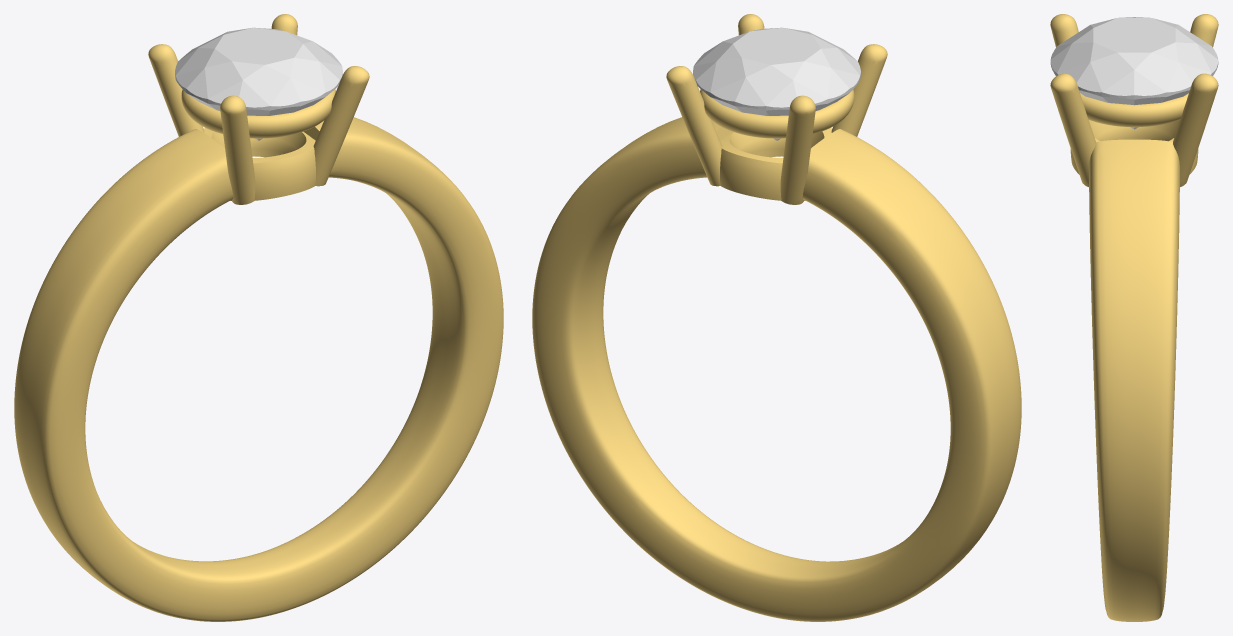
Rendered from diamond-round-yellowgold-4prong-straighttaperedband-nosidestones.glb.
3 views of the same model, side by side, from view 1: azimuth 30°, elevation 25°; view 2: azimuth 150°, elevation 25°; view 3: azimuth 270°, elevation 25° (orthographic).
Visible parts, largest first — view 1: metal, stone; view 2: metal, stone; view 3: metal, stone.
Boxes of the visible parts, bbox=[...] form: metal: bbox=[14, 14, 503, 621]; stone: bbox=[175, 27, 342, 140]; metal: bbox=[532, 14, 1021, 621]; stone: bbox=[693, 27, 860, 140]; metal: bbox=[1050, 14, 1218, 621]; stone: bbox=[1050, 17, 1218, 129].
Bounding box in the file's own units: 20.51 × 23.82 × 6.45.
